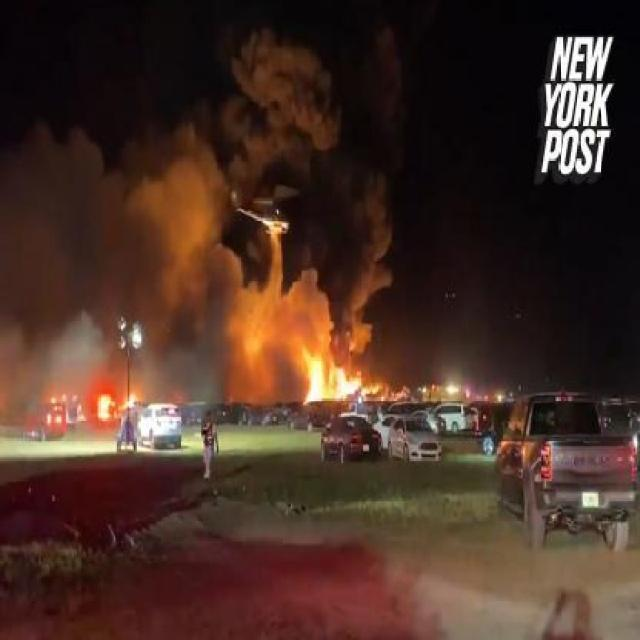Fire: (306, 355, 328, 400), (336, 369, 357, 397), (94, 390, 112, 419)
